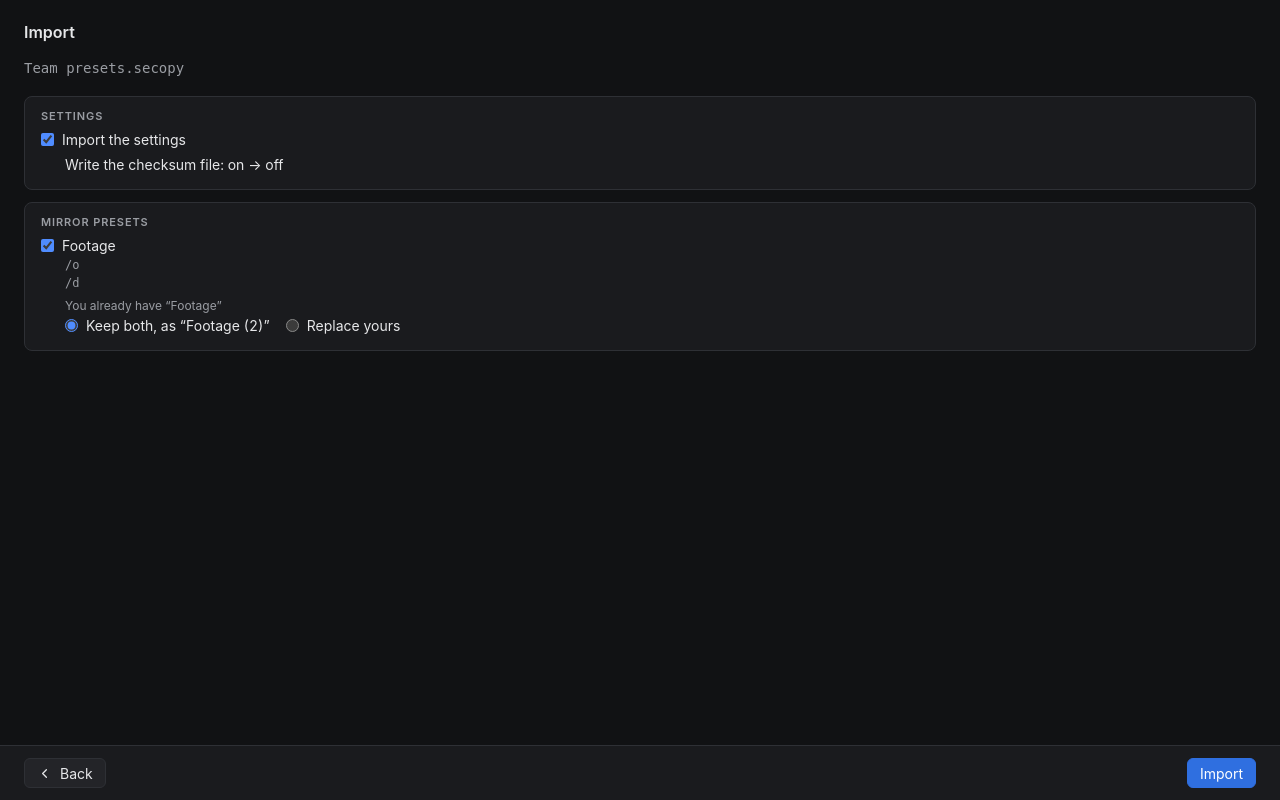
Test: ImportScreen › replacing a mirror with fewer days says what its next run removes
The image size is (1280, 800).
Expected: the text "Replacing removes" is not shown
Click the radio button labelled "Replace yours".
click(292, 326)  # box [286,319,299,332]
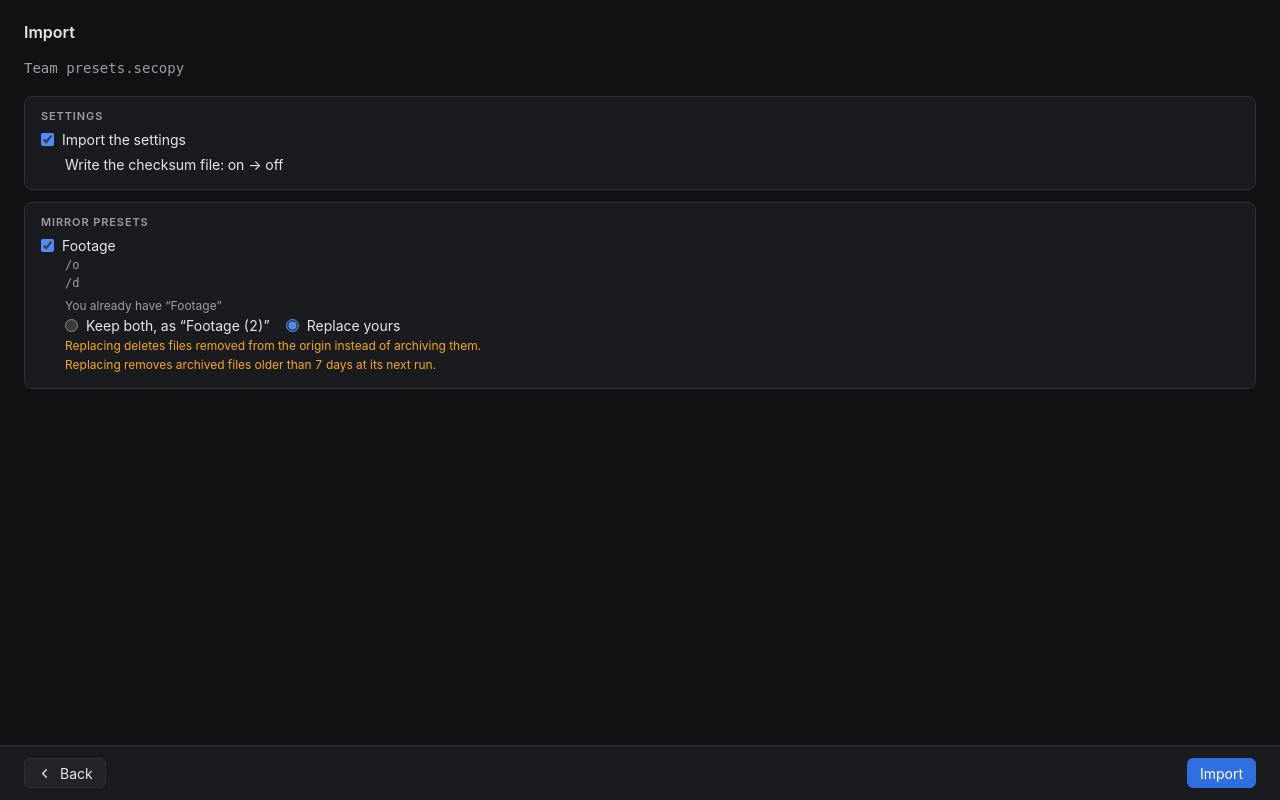
Now the text "Replacing deletes files removed from the origin instead of archiving them." is shown, box [65,338,481,353]
Now the text "Replacing removes archived files older than 7 days at its next run." is shown, box [65,357,436,372]
